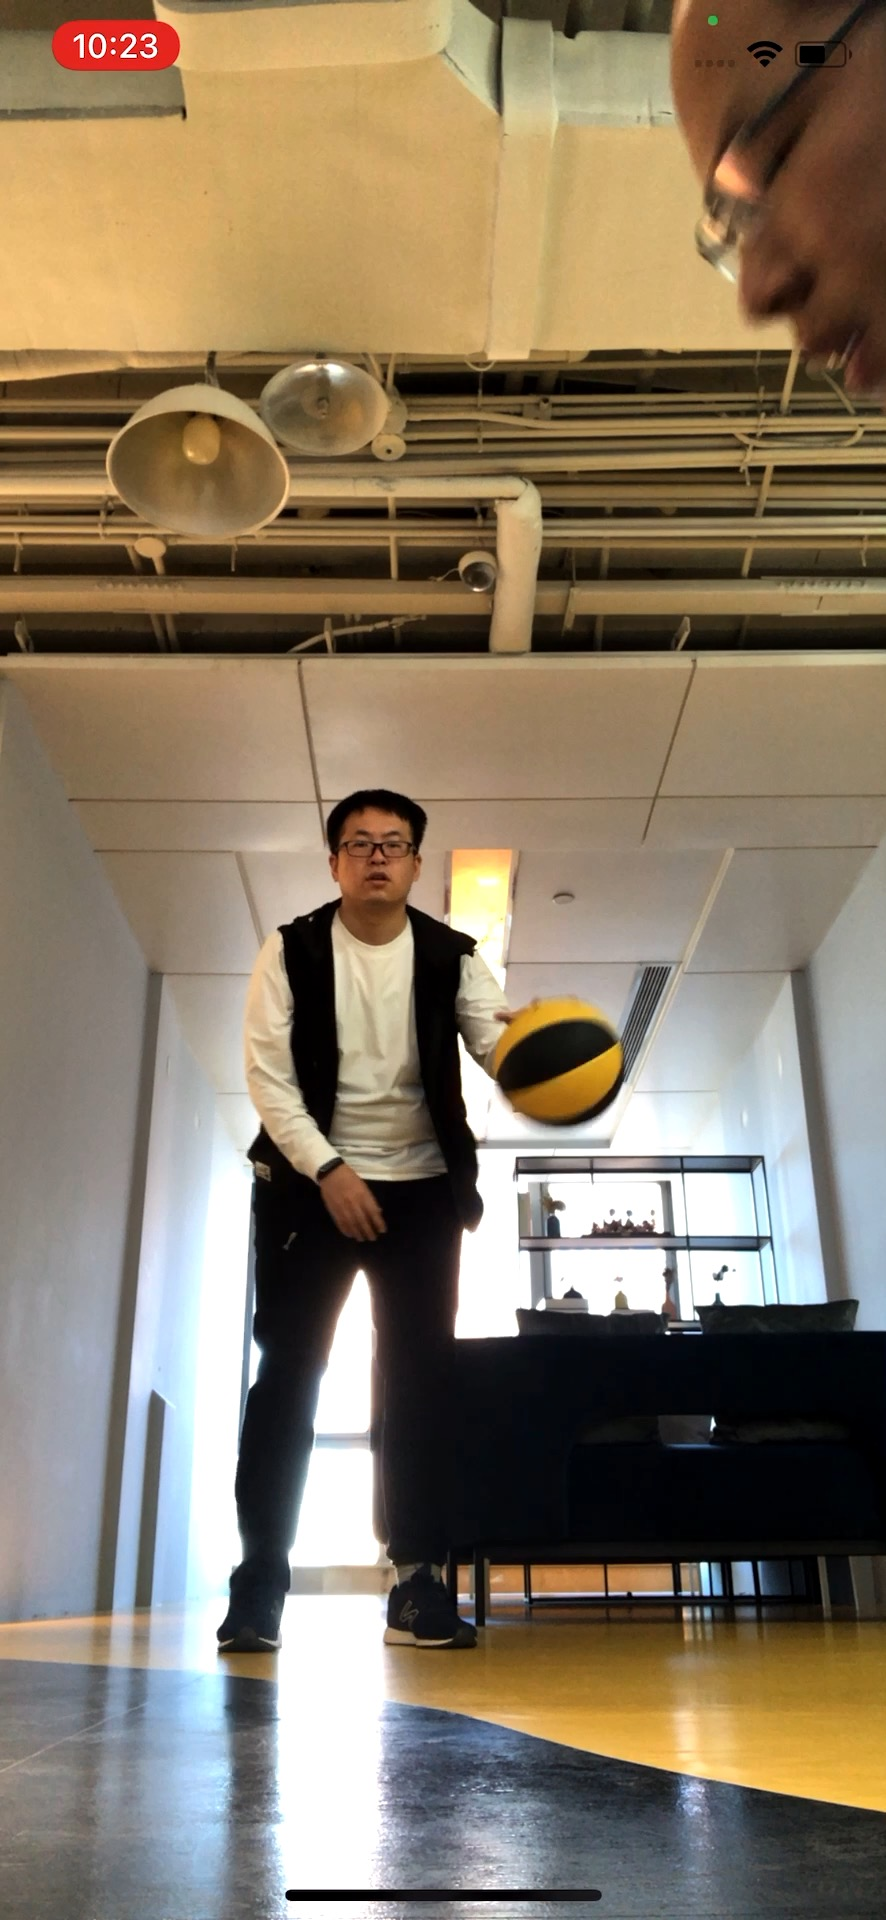ball: (496, 998, 625, 1125)
